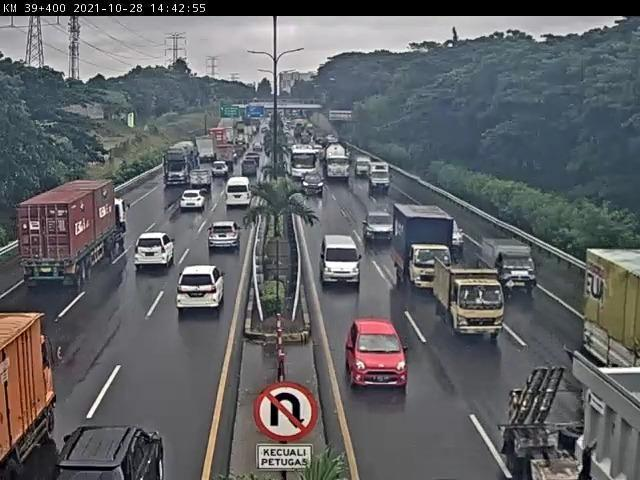bus: (288, 145, 323, 194)
car: (70, 393, 177, 480), (353, 332, 422, 416), (325, 243, 369, 301), (182, 258, 229, 301), (142, 227, 181, 264), (366, 216, 401, 251), (211, 218, 245, 249), (228, 175, 255, 205), (302, 173, 326, 202), (184, 188, 208, 211)
truck: (1, 293, 81, 476), (29, 178, 138, 281), (443, 268, 527, 355), (398, 204, 468, 300), (490, 241, 552, 301), (168, 141, 203, 185), (326, 141, 357, 186), (372, 163, 399, 199), (353, 155, 375, 183)
